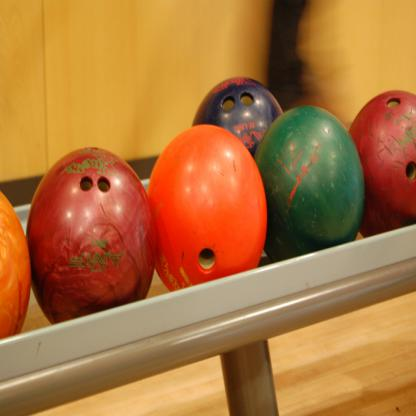Ball: (26, 149, 158, 326), (146, 125, 267, 291), (254, 105, 366, 265), (350, 90, 416, 240), (192, 78, 282, 156), (0, 190, 31, 339)
